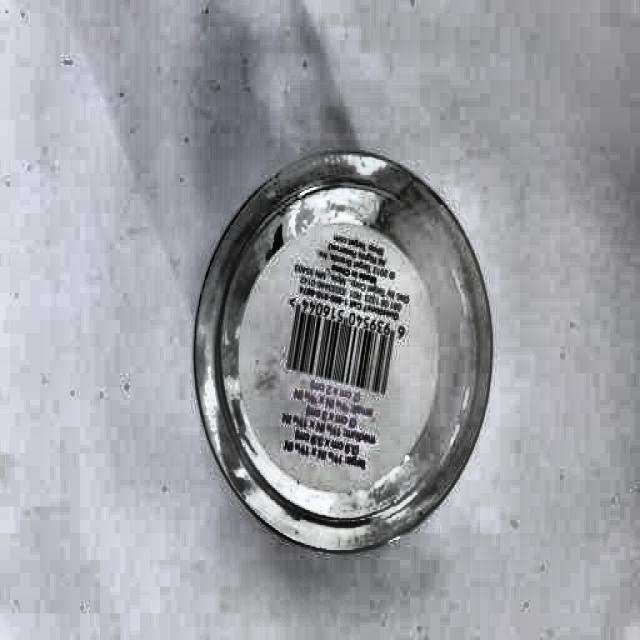plastic: (192, 153, 492, 549)
